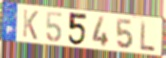4: (91, 15, 111, 49)
5: (67, 12, 89, 47), (45, 10, 63, 44), (116, 17, 134, 49)
K: (22, 8, 40, 41)
L: (140, 19, 157, 53)
